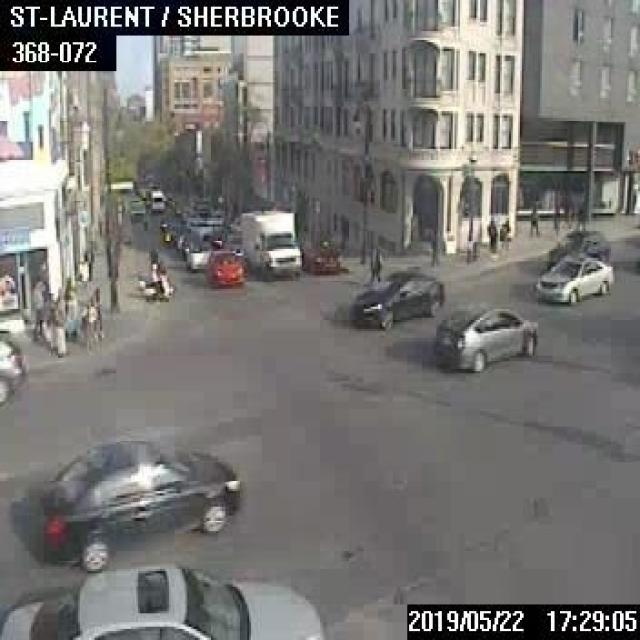pedestrian: (29, 280, 45, 340), (78, 300, 95, 354), (52, 289, 65, 354), (43, 290, 53, 347), (368, 242, 381, 282), (82, 242, 93, 282), (527, 202, 538, 240), (428, 228, 439, 266), (147, 246, 158, 278), (549, 202, 560, 234), (498, 216, 509, 248), (486, 215, 496, 249), (576, 201, 586, 229)
vehicle: (34, 436, 241, 572), (0, 564, 324, 638), (433, 306, 536, 370), (345, 266, 442, 330), (239, 208, 301, 277), (532, 252, 614, 302), (545, 229, 609, 267), (0, 331, 27, 406), (205, 249, 242, 284), (300, 238, 338, 272), (135, 268, 173, 300), (183, 236, 216, 271), (221, 231, 241, 255), (148, 186, 164, 211)
